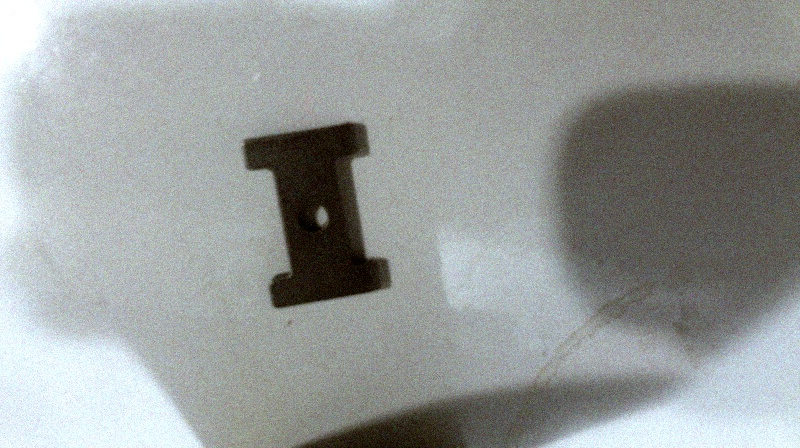O002: (242, 120, 381, 311)
